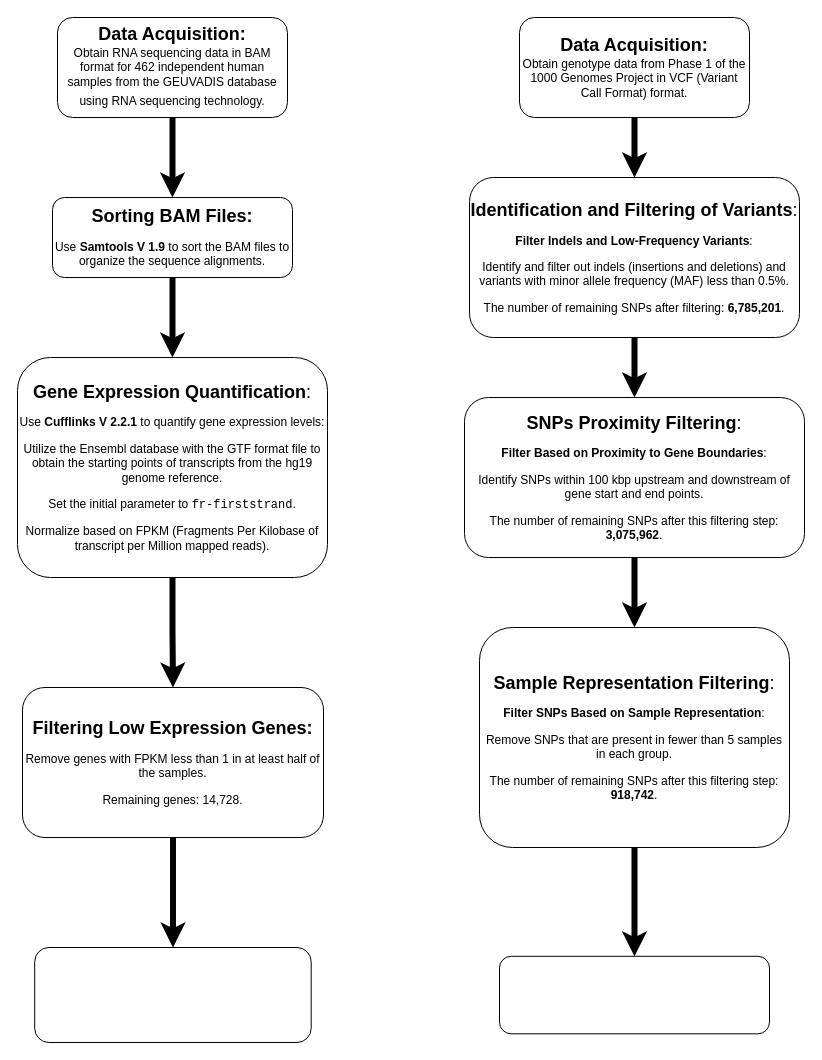
Some shapes in this 822 by 1060 pixel diagram are drawn without their labels. The shapes that lost their labels are listed below. From the top down, each one's box as (x1, y1, x2, y2) in pixels, then its label:
(34, 946, 311, 1042): Final Gene List : The list includes 14,728 genes.
(498, 955, 770, 1034): Final SNP List : Generate the final list of SNPs that includes 918,742 SNPs.
